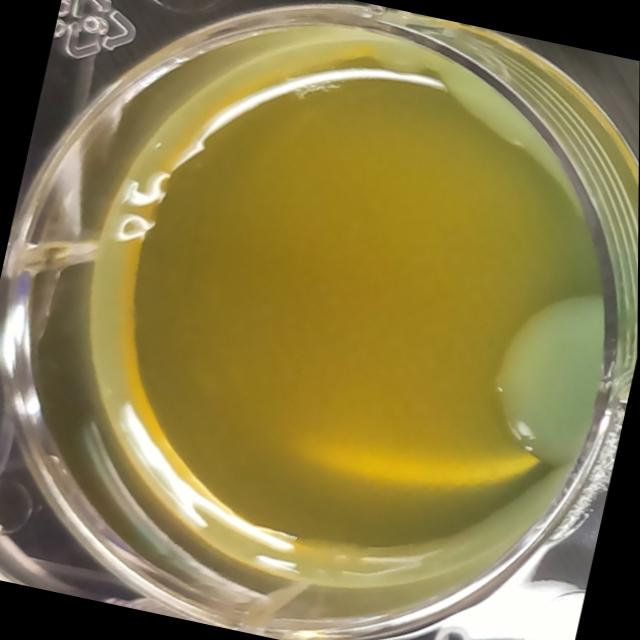vibrio: (456, 249, 639, 503)
